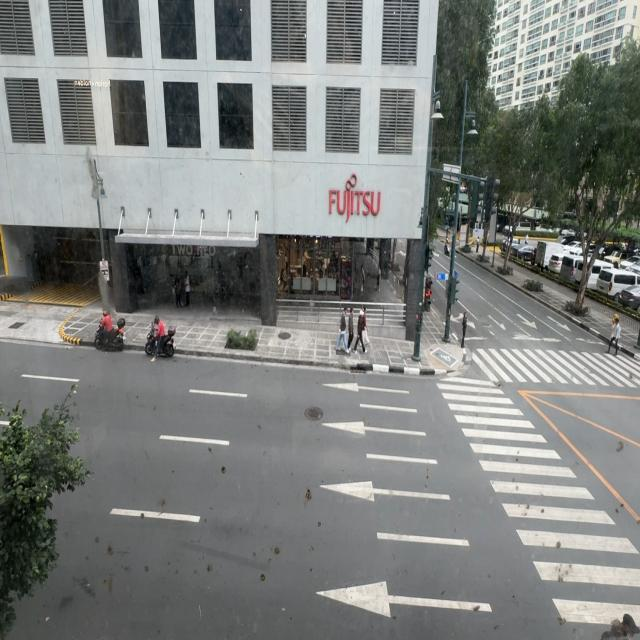waiting: (460, 311, 468, 349)
